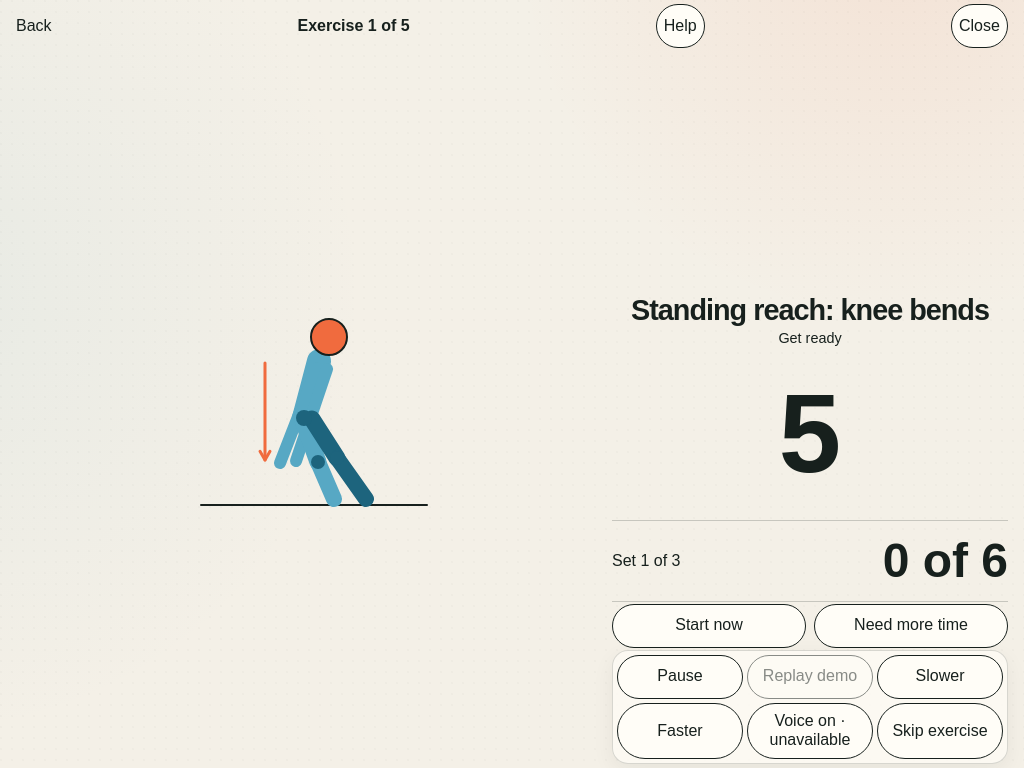
Test case: SessionPlayer › shows the preparation numeral outside the live region and offers Need more time
Check: the text named "Preparation countdown" reads "5", box [779,371,841,496]
Click the button "Need more time".
click(911, 626)  # box [814,604,1008,648]
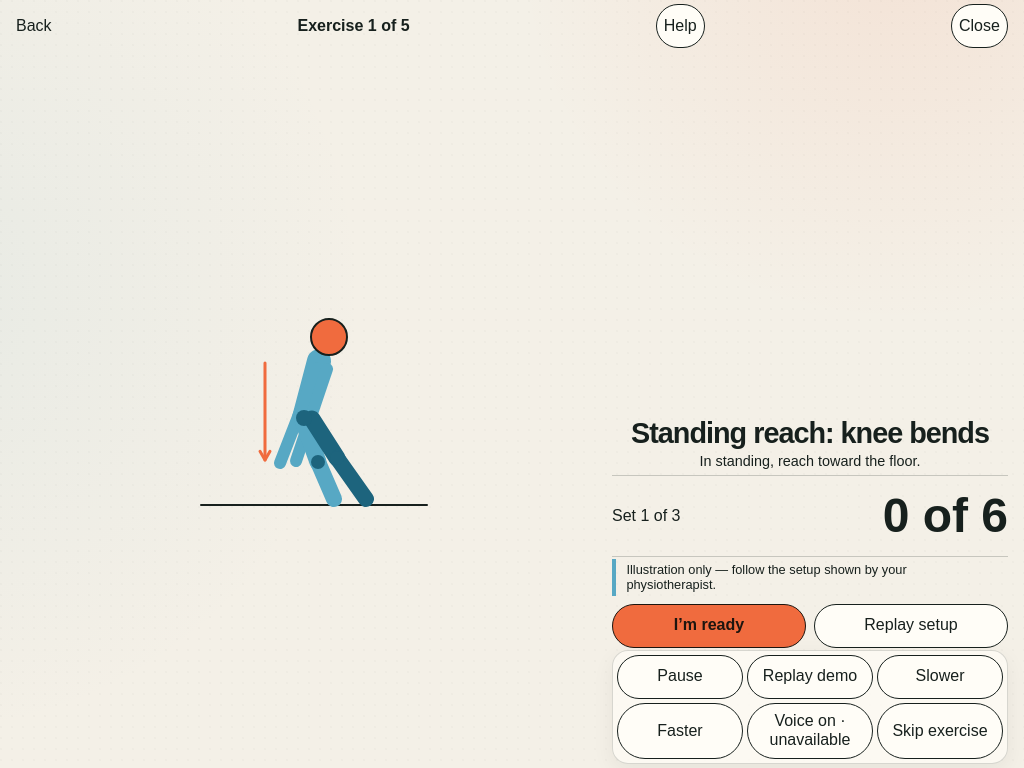
Check: the button "I’m ready" is shown, box [612,604,806,648]
